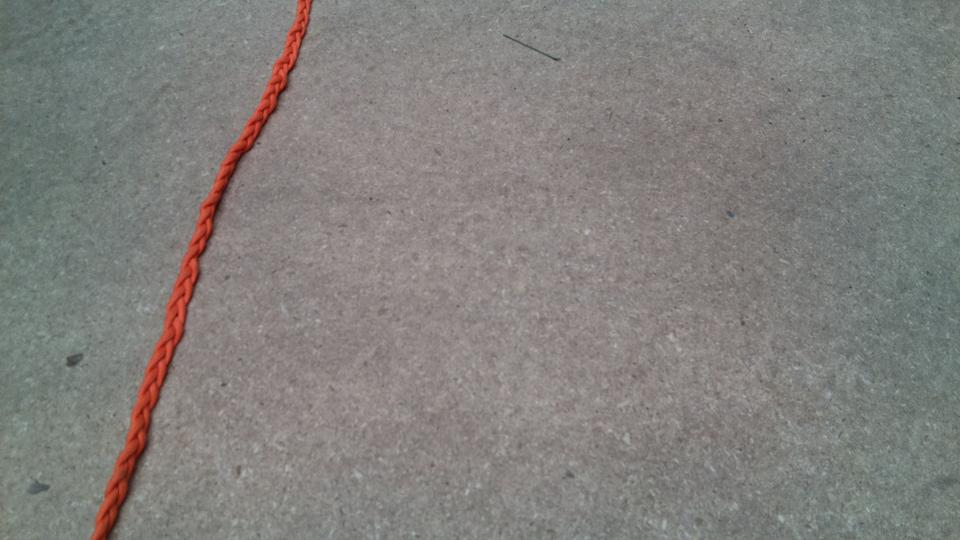rope: (86, 1, 319, 540)
